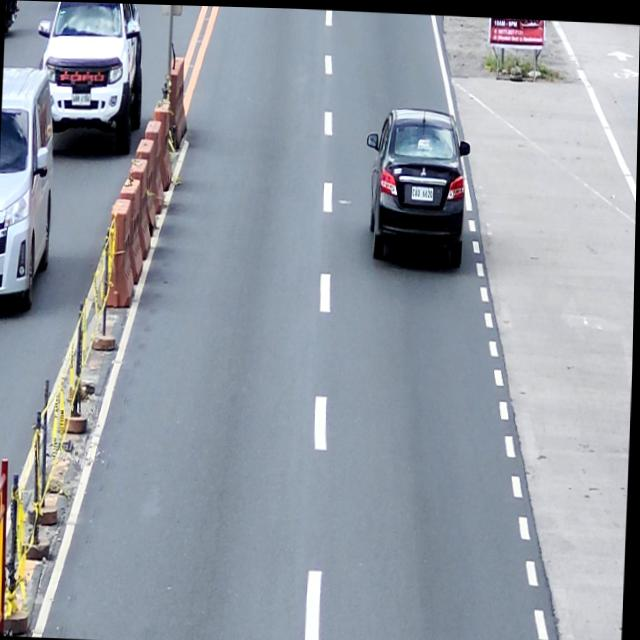Car: (363, 102, 471, 265), (33, 1, 145, 153), (0, 64, 57, 310)
License-Plate: (410, 180, 435, 200), (73, 91, 92, 106)
